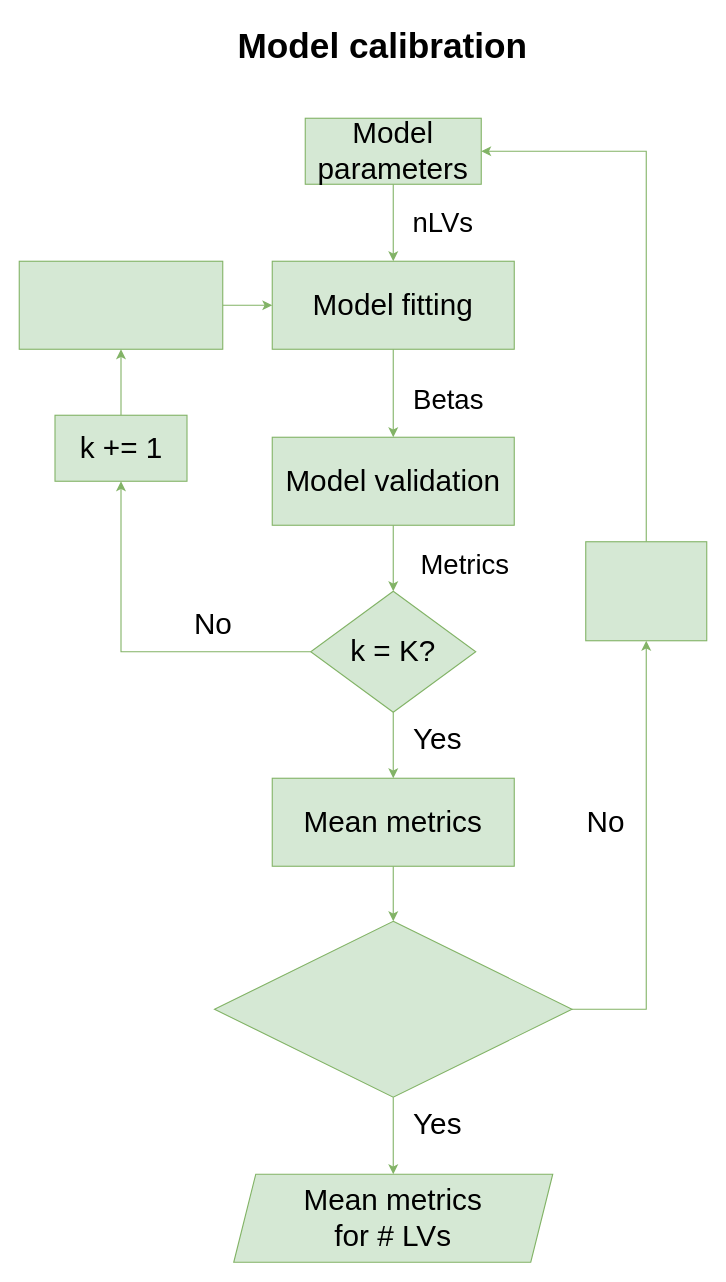
The diagram is 726 pixels wide and 1282 high, and some of its shapes have lost their labels. Here are the shapes that lost their labels. From the top down, the centre of each, then its label:
At point 120,304: "K-Fold data split".
At point 646,591: "nLVs += 1".
At point 392,1008: "nLVs = # of Features?".
